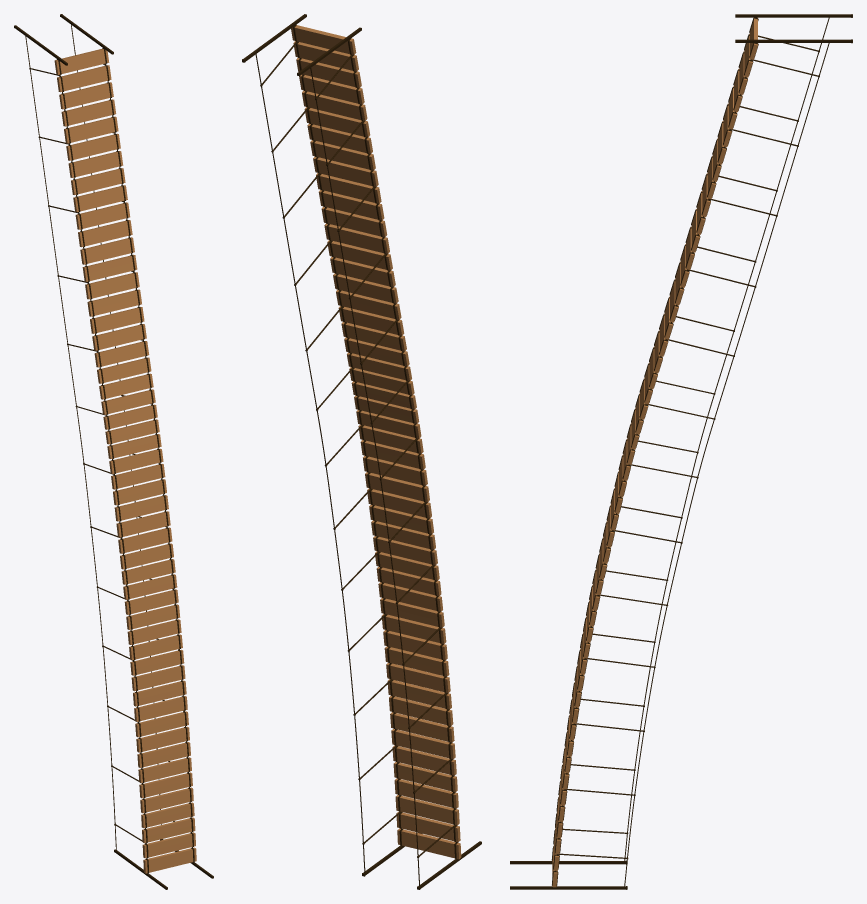
The model's file is Wooden Rope Bridge Long.fbx.
3 views of the same model, side by side, from view 1: azimuth 30°, elevation 25°; view 2: azimuth 150°, elevation 25°; view 3: azimuth 270°, elevation 25° (orthographic). The views are drawn at different scales.
Visible parts, largest first — view 1: Wooden Rope Bridge Long; view 2: Wooden Rope Bridge Long; view 3: Wooden Rope Bridge Long.
Boxes of the visible parts, bbox=[...] form: Wooden Rope Bridge Long: bbox=[14, 14, 213, 889]; Wooden Rope Bridge Long: bbox=[242, 14, 481, 889]; Wooden Rope Bridge Long: bbox=[510, 14, 852, 889].
Size of the model in its own units: 200 by 2823 by 1033.
